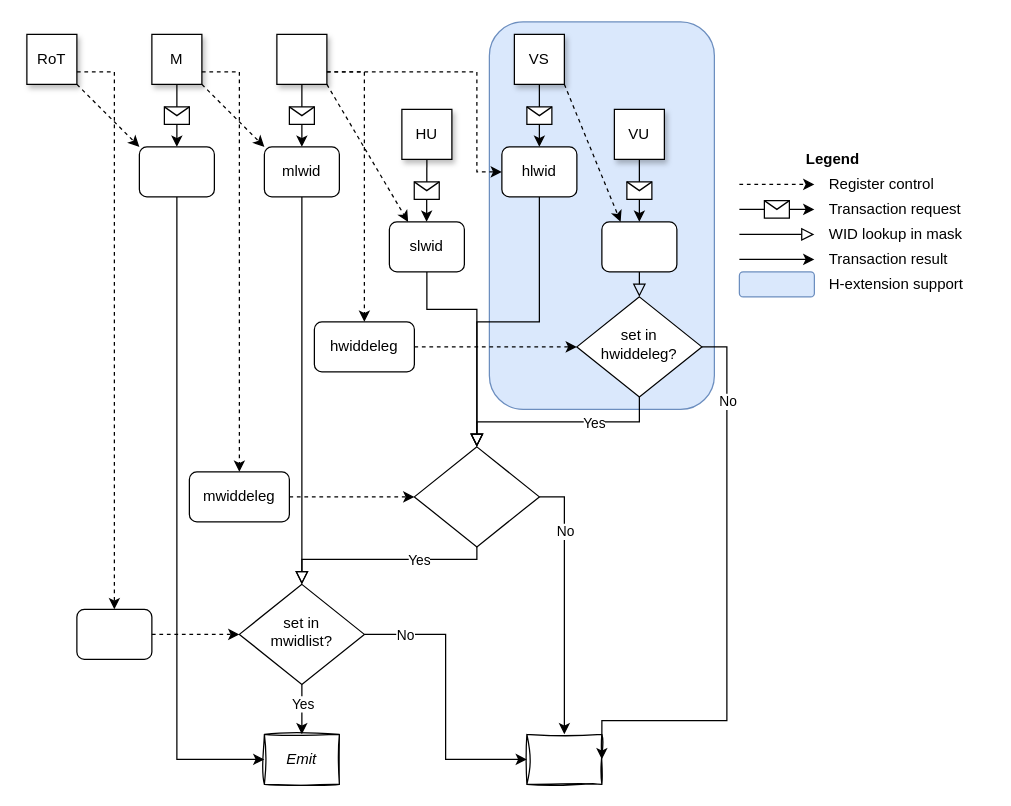
The diagram is 1011 pixels wide and 806 high, and some of its shapes have lost their labels. Each missing label, with the centre of its shape:
"Fault" belongs at (x=564, y=758).
"HS" belongs at (x=302, y=60).
"mwid" belongs at (x=176, y=171).
"mwidlist" belongs at (x=114, y=633).
"set in mwiddeleg?" belongs at (x=476, y=496).
"vslwid" belongs at (x=639, y=246).
